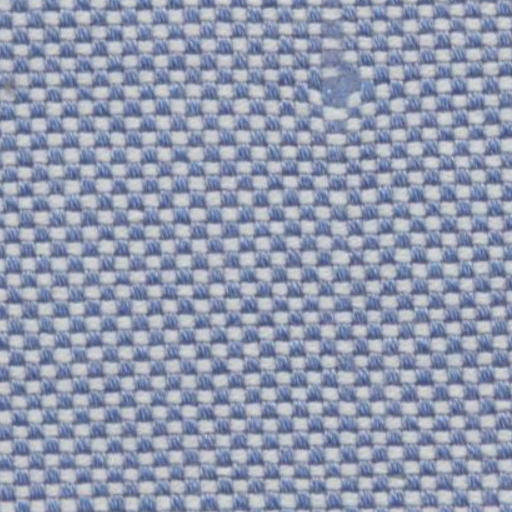MianQiu: (286, 59, 388, 119)
